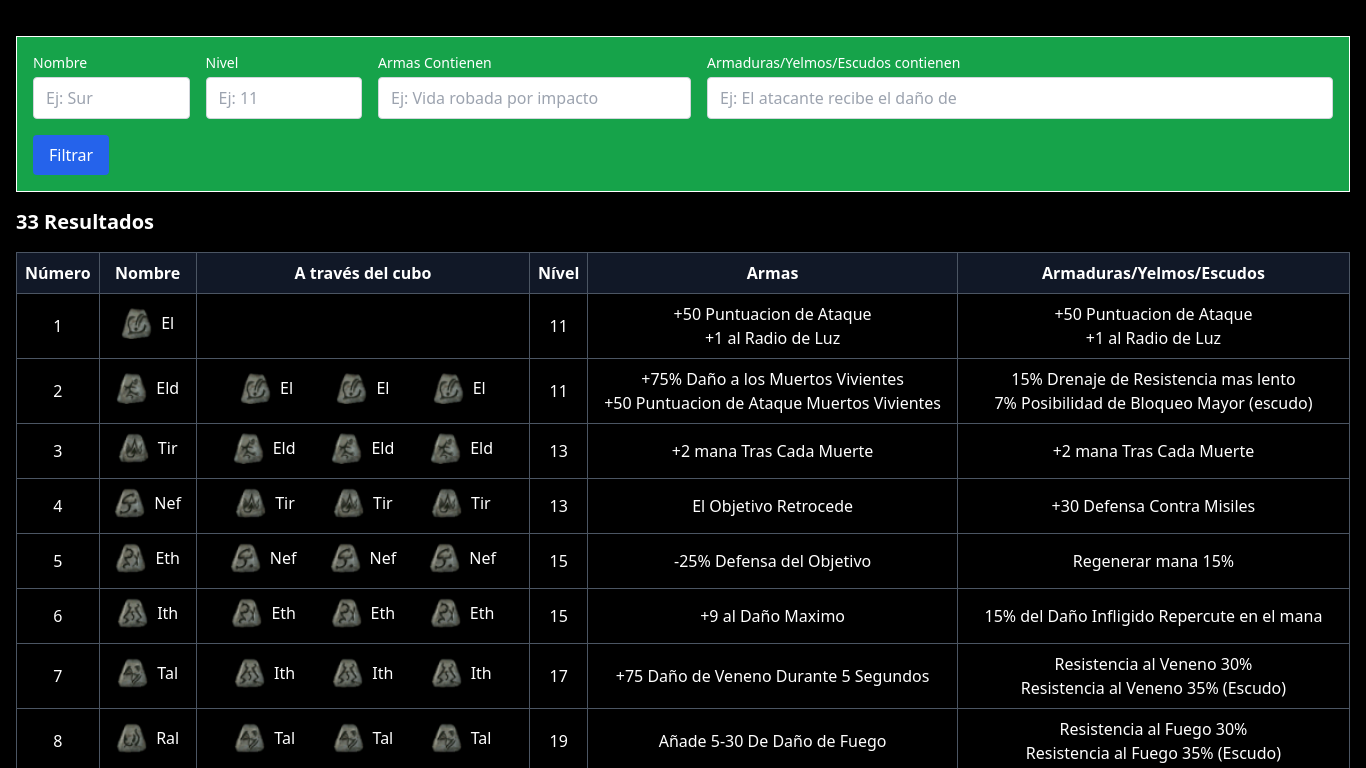
Test: Runes › shows the empty state when no rune matches the filters
Type "no existe esta runa" into the field labelled "Nombre". click: (111, 98)
box: [33, 77, 190, 119]
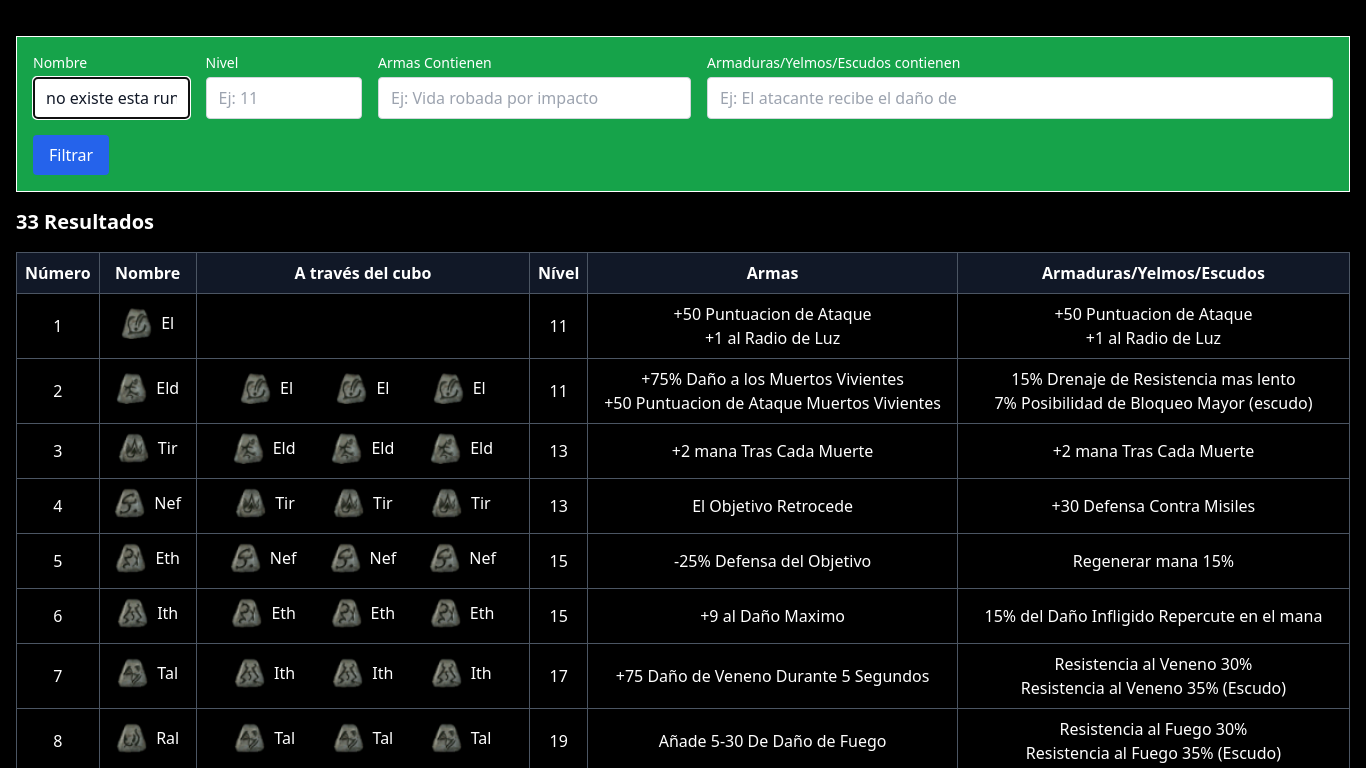
Click the button "Filtrar". click: click(71, 155)
box: [33, 135, 109, 175]
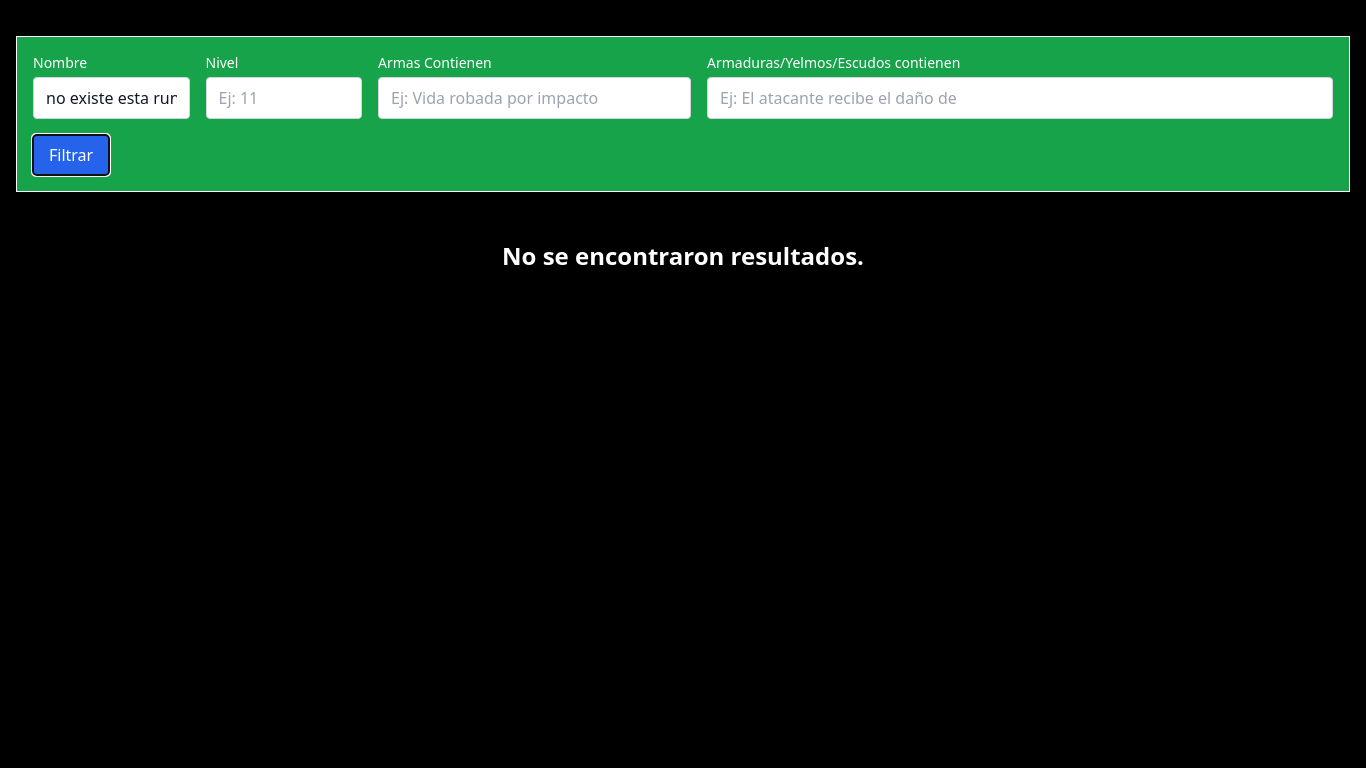
Expected: the heading "No se encontraron resultados." is shown, [502, 239, 864, 272]
